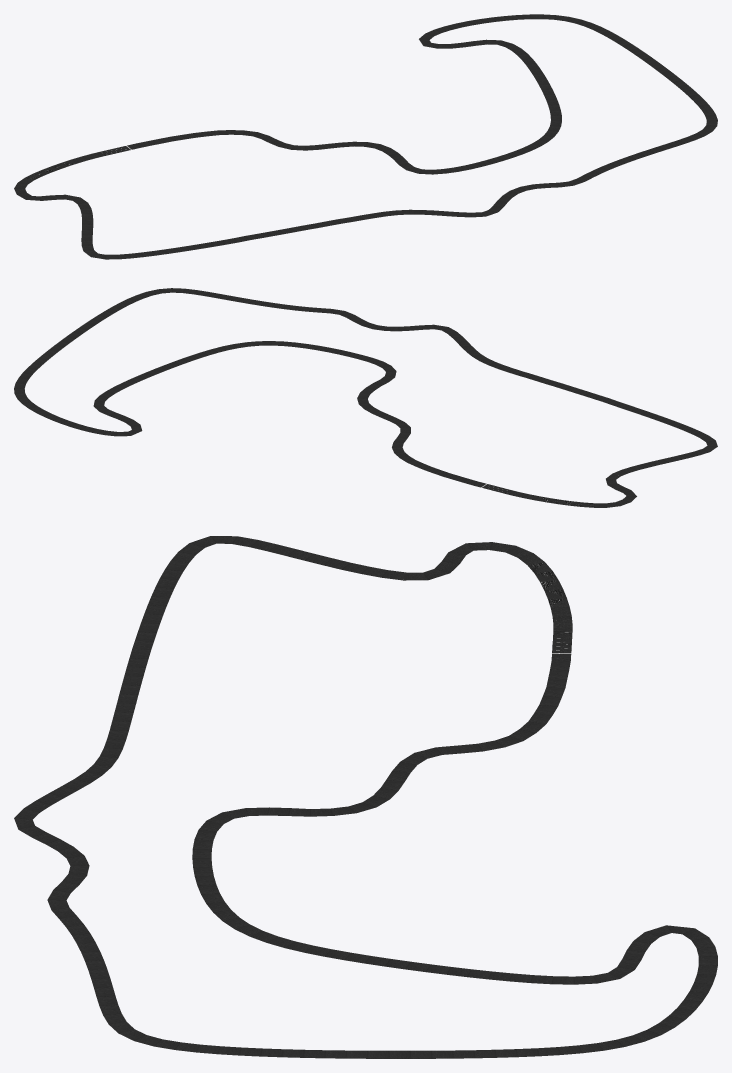
Rendered from Race-Track-Export(6)-FBX.fbx.
3 views of the same model, one above another, from view 1: azimuth 30°, elevation 25°; view 2: azimuth 150°, elevation 25°; view 3: azimuth 270°, elevation 25° (orthographic). The views are drawn at different scales.
Visible parts, largest first — view 1: Track-Asphalt; view 2: Track-Asphalt; view 3: Track-Asphalt.
Boxes of the visible parts, bbox=[...] form: Track-Asphalt: bbox=[14, 14, 717, 259]; Track-Asphalt: bbox=[14, 288, 717, 507]; Track-Asphalt: bbox=[14, 536, 717, 1058].
Size of the model in its own units: 107585 by 115 by 61213.
2 materials, 1 textured.
